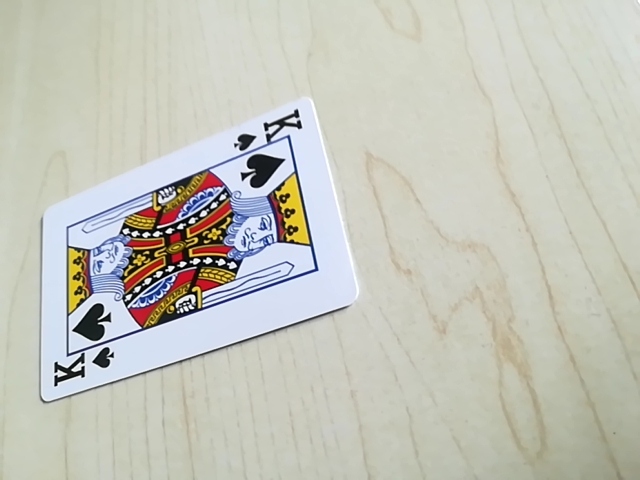ht k: (43, 337, 121, 395), (232, 109, 311, 151)
